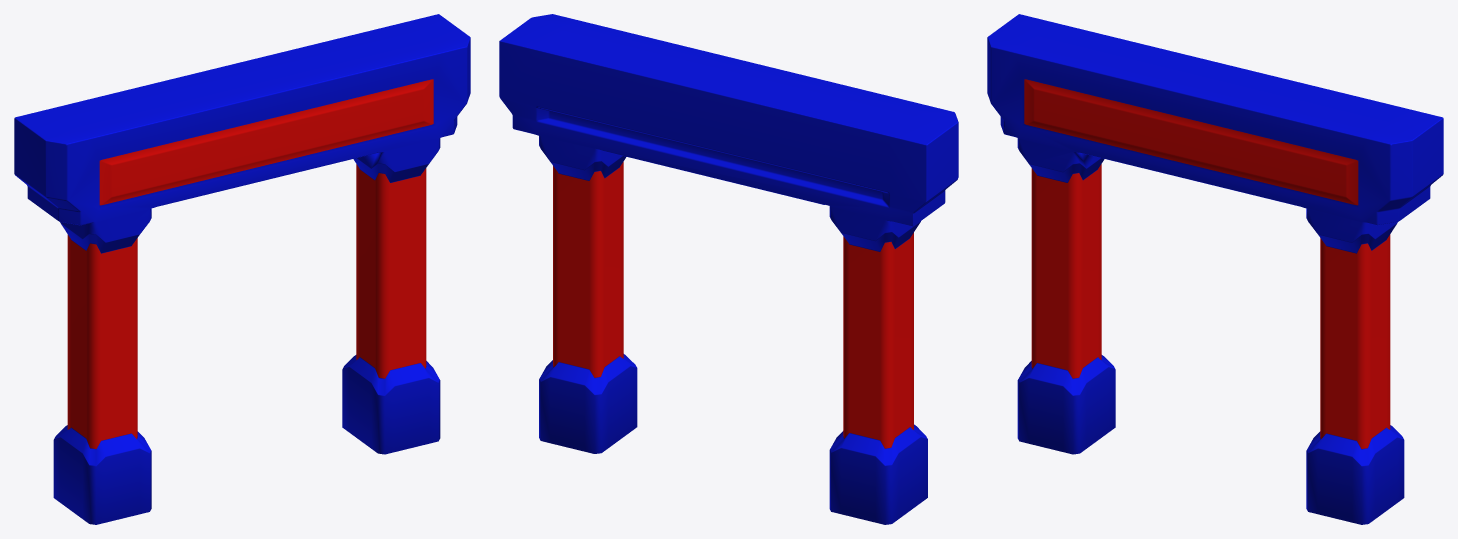
Rendered from Arch.fbx.
3 views of the same model, side by side, from view 1: azimuth 30°, elevation 25°; view 2: azimuth 150°, elevation 25°; view 3: azimuth 330°, elevation 25° (orthographic).
Parts seen in each view (by area): view 1: Arch; view 2: Arch; view 3: Arch.
Boxes of the visible parts, x1,y1,x2,y2 form: Arch: [14, 14, 470, 524]; Arch: [499, 14, 958, 524]; Arch: [987, 14, 1443, 524].
Bounding box in the file's own units: 600 × 523 × 101.
